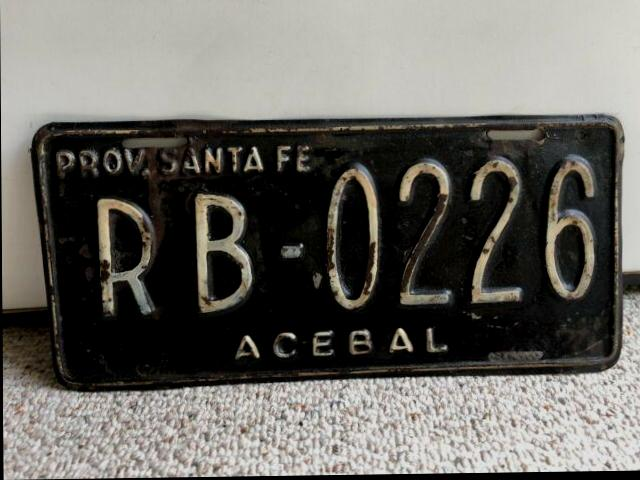License_Plate: (28, 99, 627, 395)
